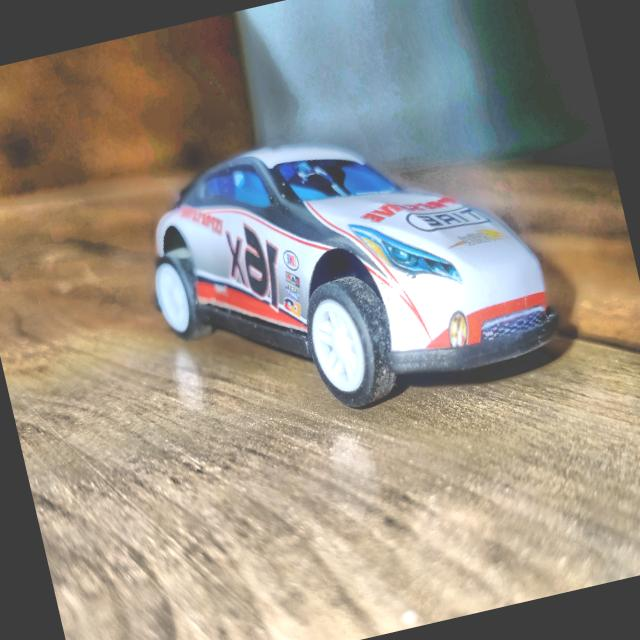Car: (130, 93, 566, 445)
